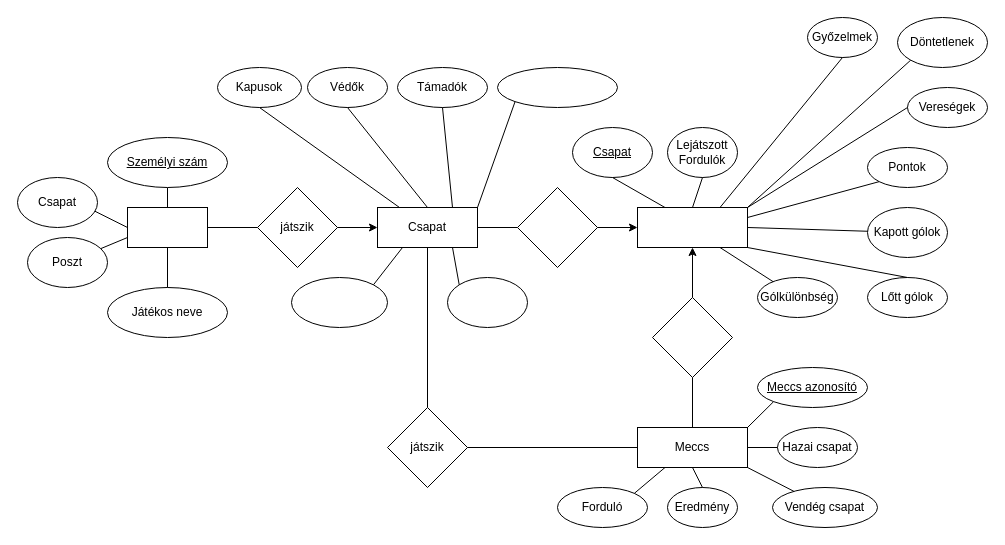
The diagram is 1005 pixels wide and 545 high, and some of its shapes have lost their labels. The centre of each missing label's shape, as x and y in pixels:
"Játékos" goes at pixel 167 227.
"Kötéppályások" goes at pixel 557 87.
"Név" goes at pixel 487 302.
"részt vesz" goes at pixel 557 227.
"Tabella" goes at pixel 692 227.
"Vezető edző" goes at pixel 339 302.
"zajlik" goes at pixel 692 337.
